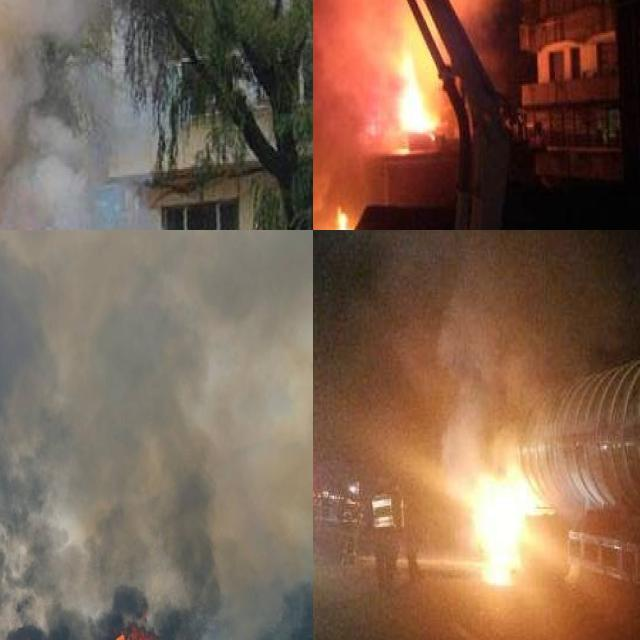fire: (0, 574, 176, 640), (473, 456, 539, 586), (392, 45, 436, 142), (326, 198, 353, 230)
smoke: (0, 230, 313, 640), (366, 230, 628, 487), (313, 0, 501, 230), (0, 0, 174, 230)
